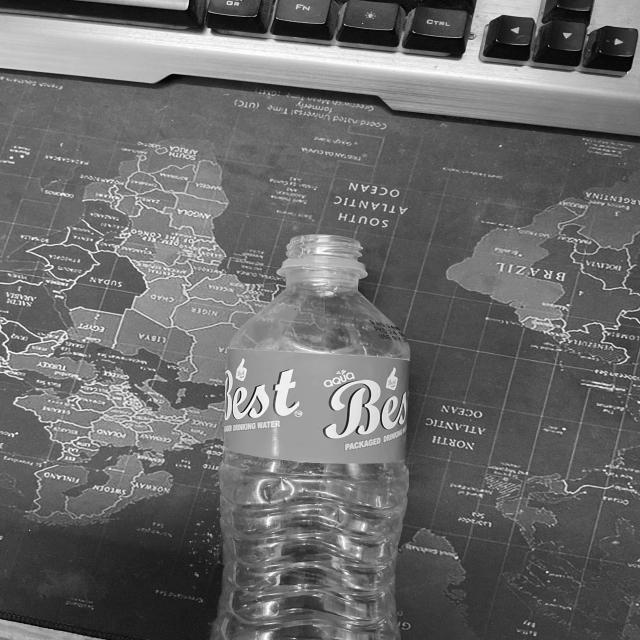open-cap: (280, 231, 371, 274)
